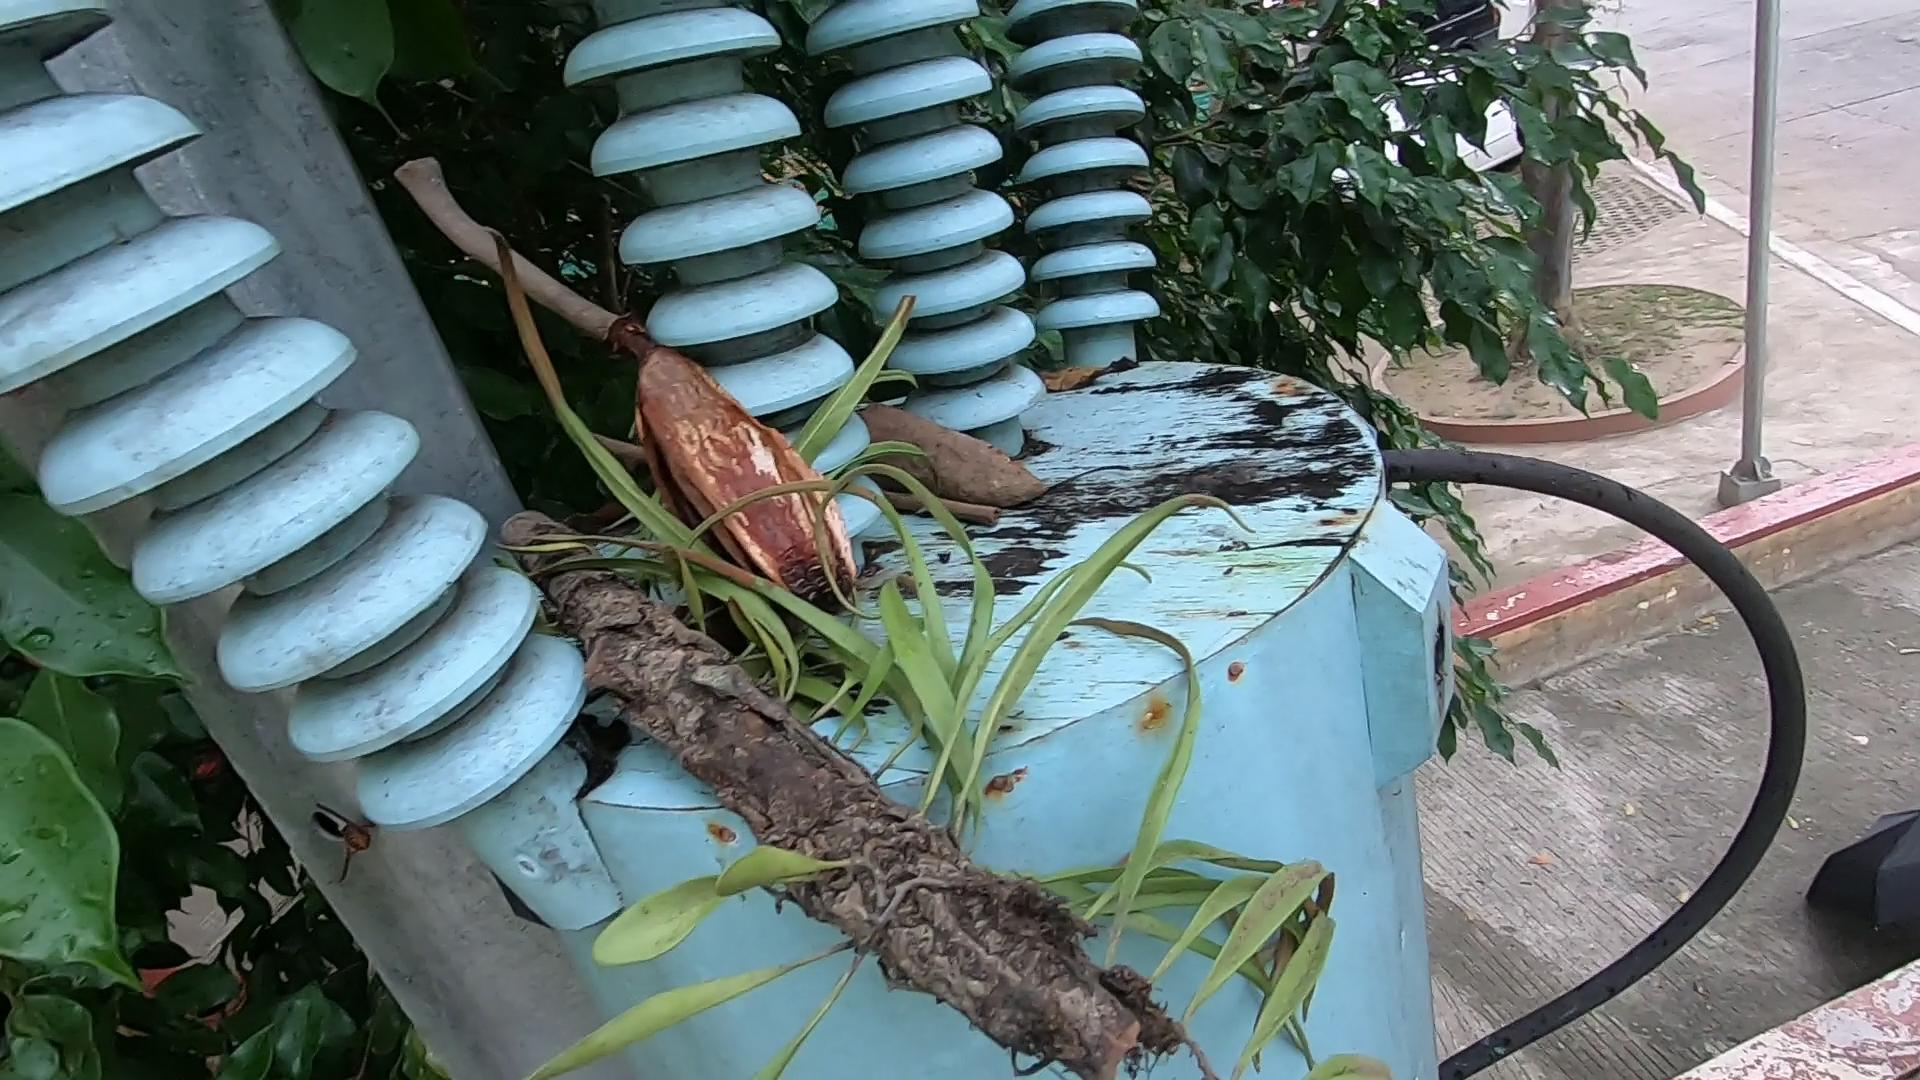branch with leaves: (506, 516, 1125, 1080)
leaf: (1015, 356, 1171, 401)
mahogany fruit: (611, 343, 864, 591), (816, 344, 1043, 520)
tree branch: (382, 128, 607, 392), (876, 475, 1023, 530)
